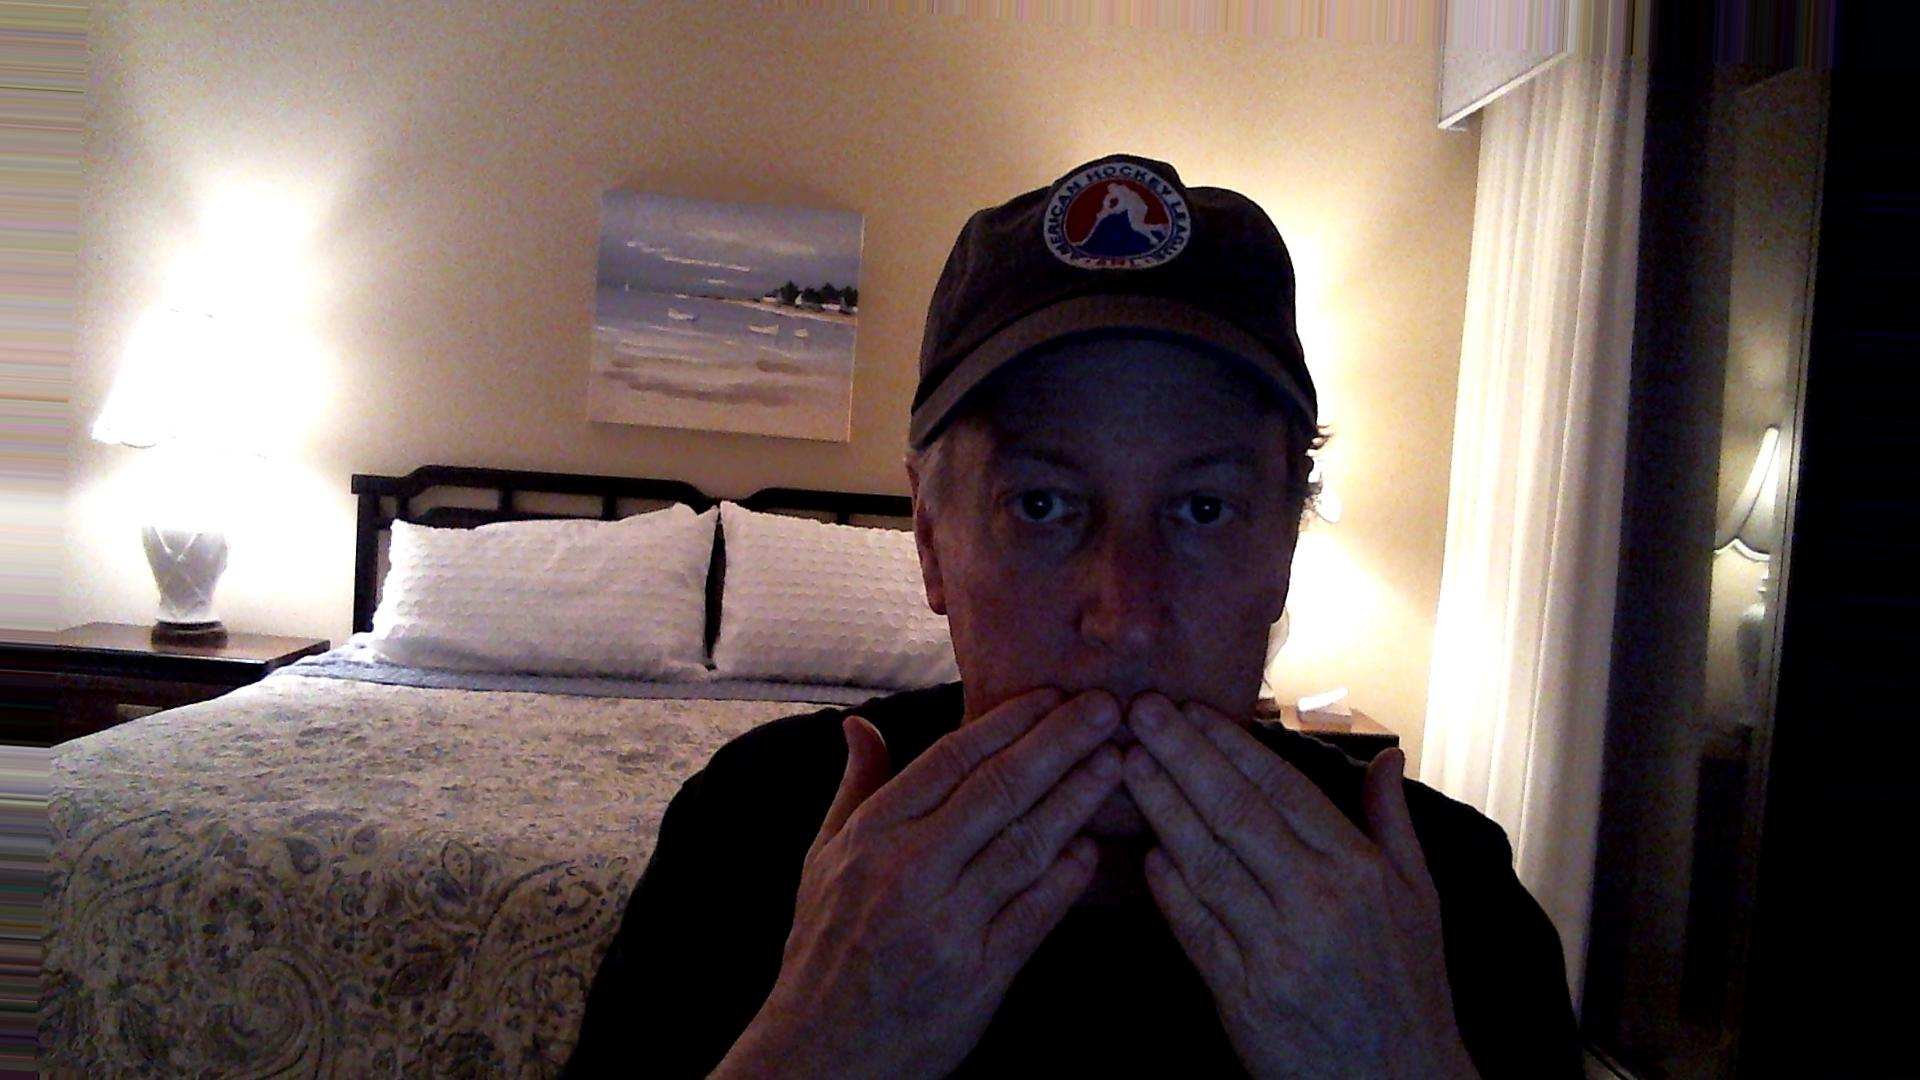Thank You: (779, 658, 1453, 1052)
